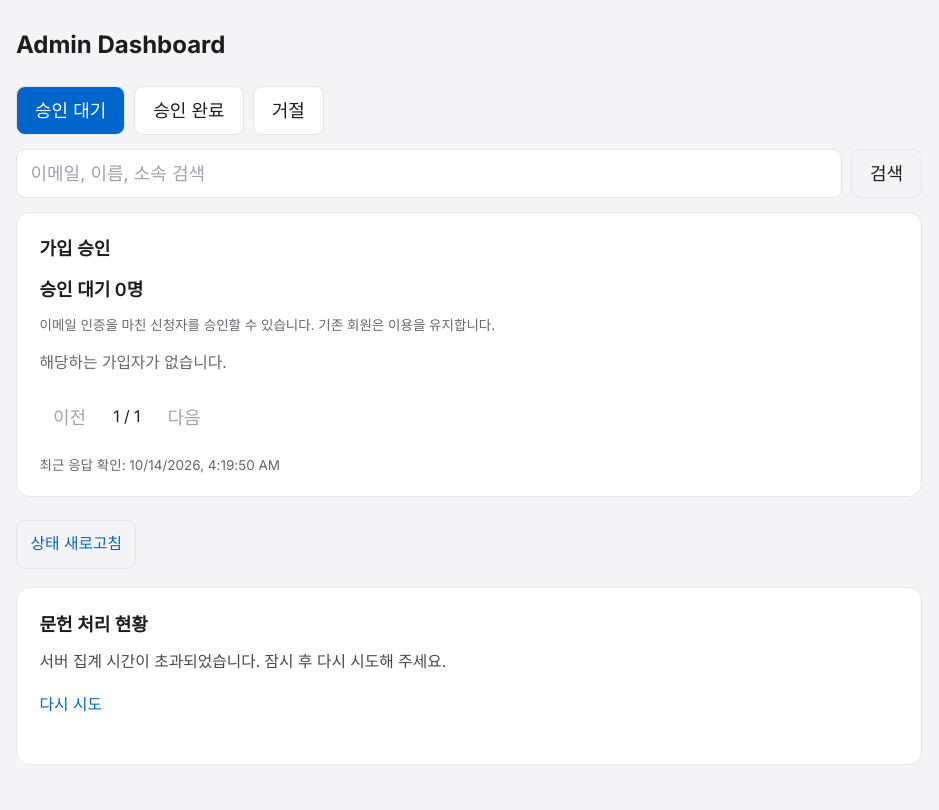
Test: keeps successful panels visible and retries only the failed catalog
expect the message "서버 집계 시간이 초과되었습니다. 잠시 후 다시 시도해 주세요. 다시 시도" is shown: met, box x1=40 y1=652 x2=446 y2=728
expect the text "서지정보 반영" is not shown: met
Click the button "다시 시도": point(71, 705) x1=40 y1=682 x2=102 y2=728
(page scrolled)
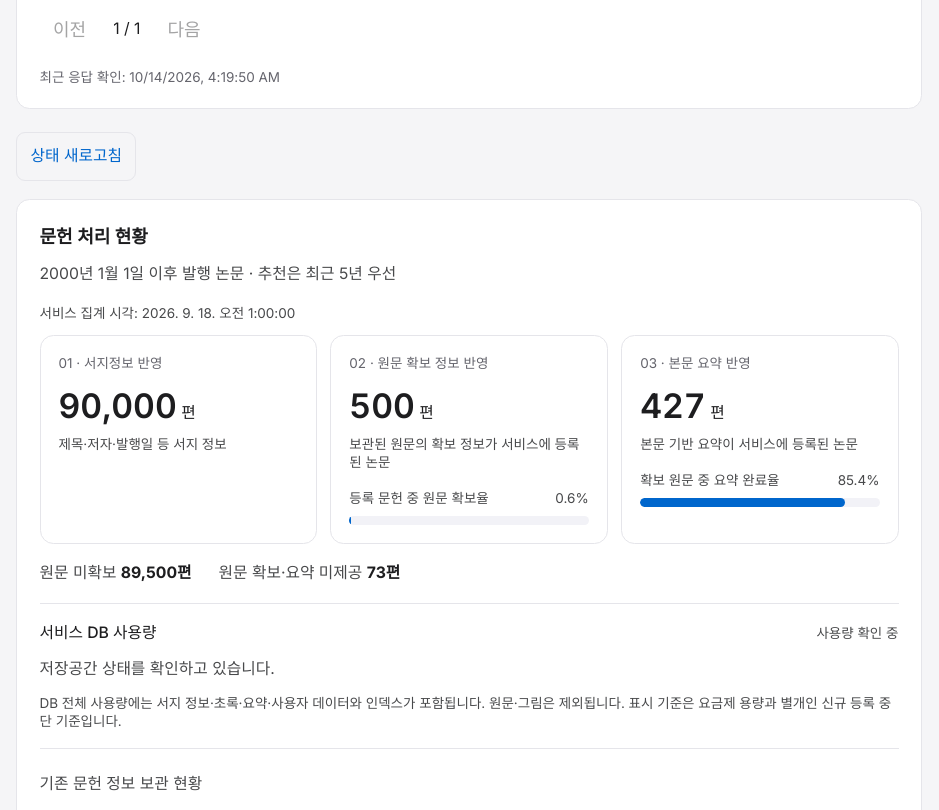
expect the text "90,000" is shown: met, box x1=58 y1=384 x2=177 y2=426
expect the message "서버 집계 시간이 초과되었습니다. 잠시 후 다시 시도해 주세요. 다시 시도" is gone: met
